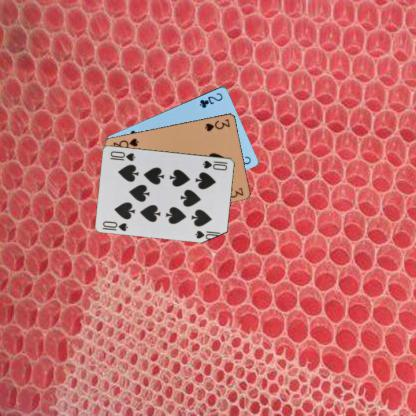10s: (101, 218, 130, 233), (200, 158, 229, 172)
2c: (197, 90, 224, 109)
3s: (202, 116, 231, 132)
